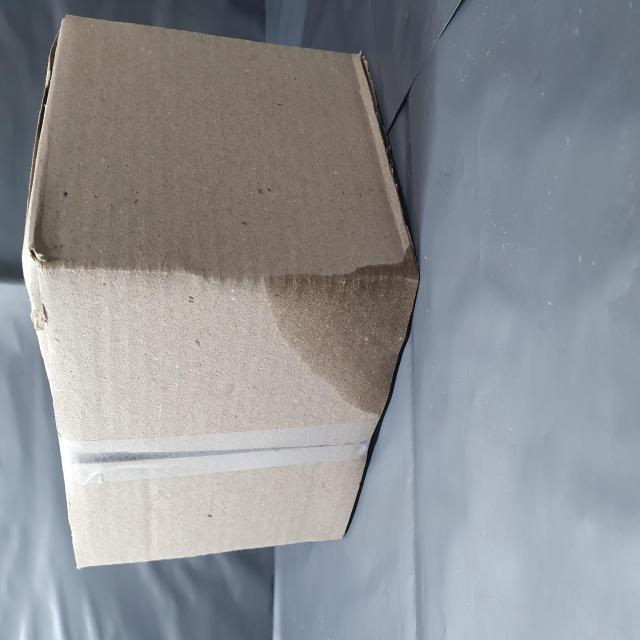wet: (115, 468, 237, 640)
